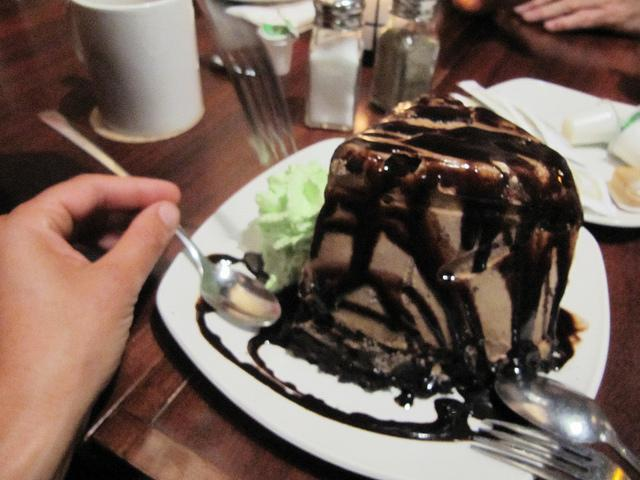hand: (3, 178, 170, 449)
